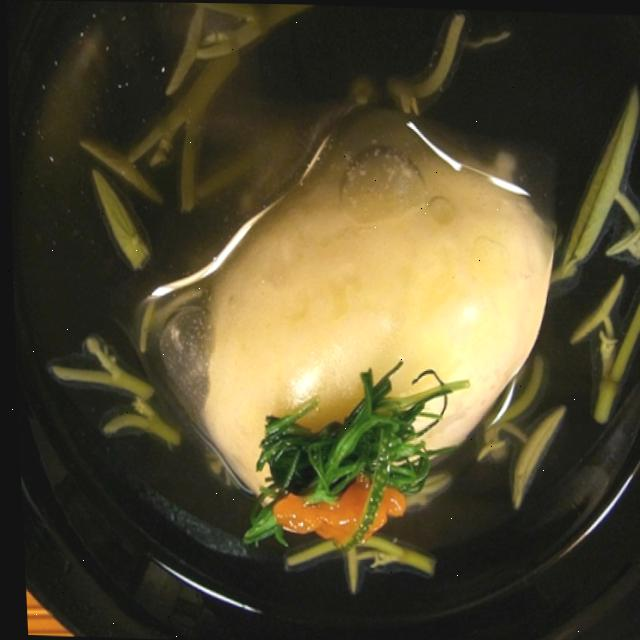汤锅炖物: (0, 10, 640, 640)
